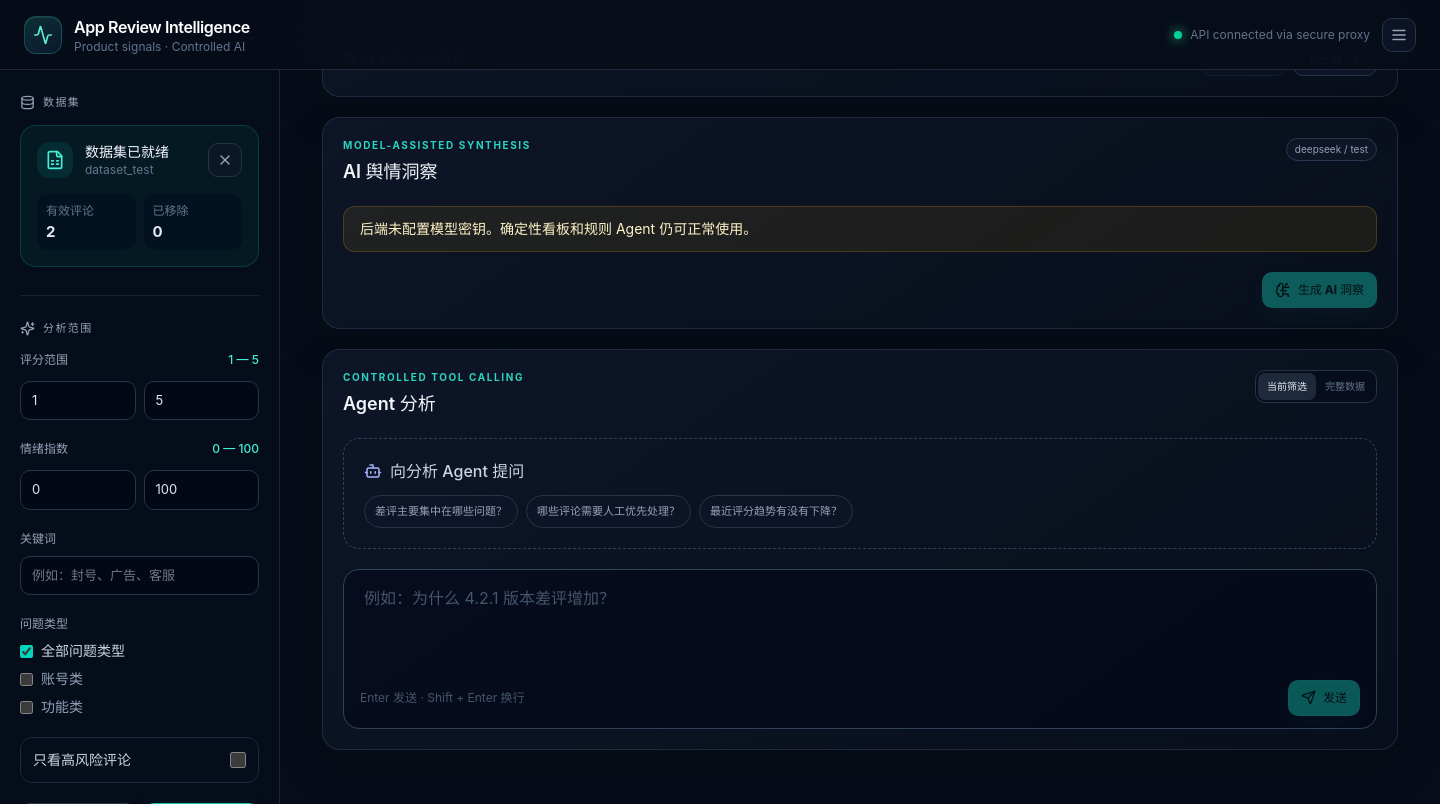
Test case: Dashboard core paths › submits an Agent question and prevents duplicate submission
(page scrolled)
In the text box named "Agent 问题": (860, 626) [352,578,1368,674], type "为什么 4.2.1 版本差评增加？"
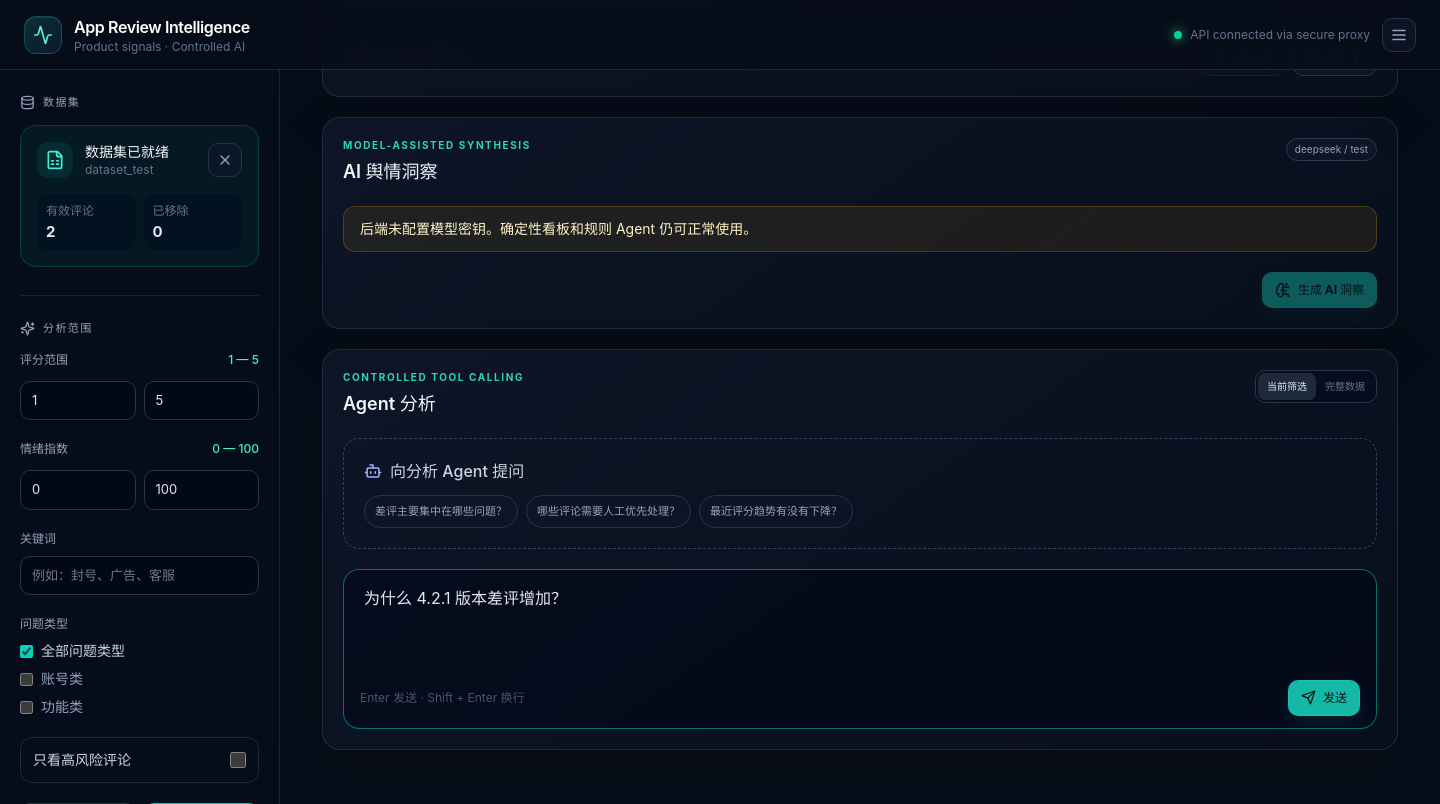
Click the button "发送": (1324, 698) [1288,680,1360,716]
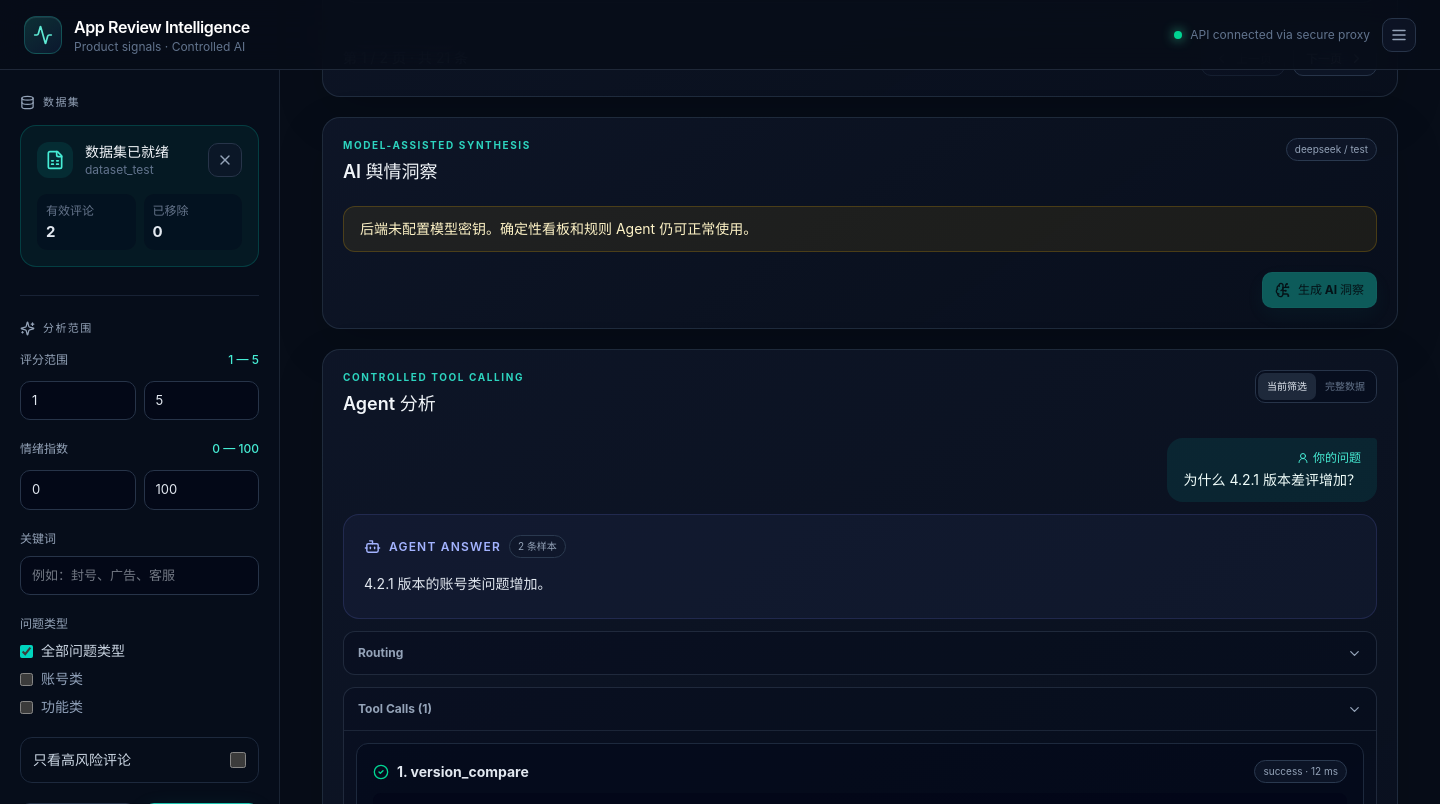
Expected: the text "4.2.1 版本的账号类问题增加。" is shown, [364,575,552,592]
